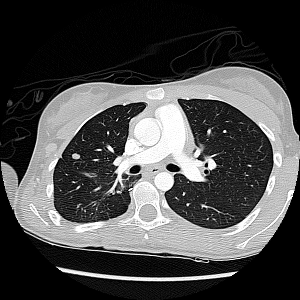nodule: (72, 152, 80, 160)
